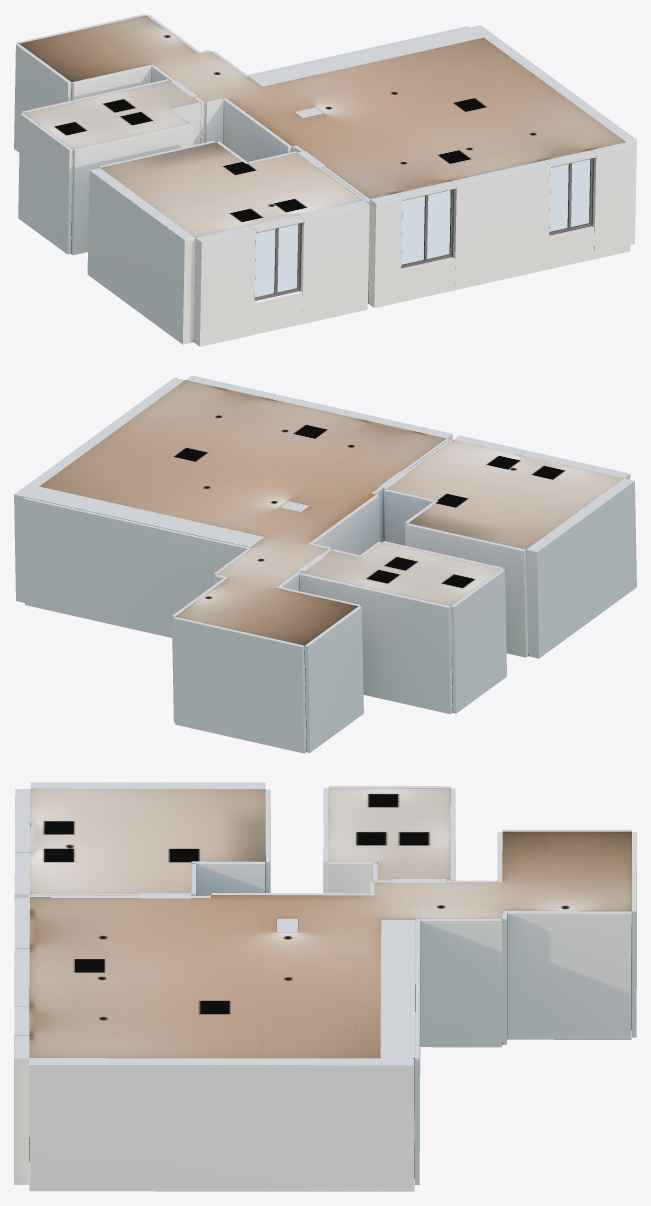
The model's file is flat_baked_captury.glb.
3 views of the same model, one above another, from view 1: azimuth 30°, elevation 25°; view 2: azimuth 150°, elevation 25°; view 3: azimuth 270°, elevation 25° (orthographic). The views are drawn at different scales.
Parts seen in each view (by area): view 1: zapec_telo_0, zapec_stropy_3, zapec_zdi_1, sklo_okno_67, sklo_okno_111, sklo_okno_74; view 2: zapec_telo_0, zapec_stropy_3, zapec_zdi_1; view 3: zapec_stropy_3, zapec_telo_0, zapec_zdi_1.
Boxes of the visible parts, x1,y1,x2,y2 form: zapec_telo_0: [14, 14, 636, 346]; zapec_stropy_3: [19, 15, 625, 237]; zapec_zdi_1: [71, 27, 593, 341]; sklo_okno_67: [401, 190, 450, 264]; sklo_okno_111: [255, 224, 298, 297]; sklo_okno_74: [549, 159, 590, 231]; zapec_telo_0: [14, 375, 636, 753]; zapec_stropy_3: [39, 380, 623, 645]; zapec_zdi_1: [25, 471, 528, 751]; zapec_stropy_3: [29, 788, 631, 1058]; zapec_telo_0: [14, 782, 636, 1191]; zapec_zdi_1: [30, 789, 631, 1177].
Bounding box in the file's own units: 12.36 × 2.95 × 11.94.
10 materials, 8 textured.
